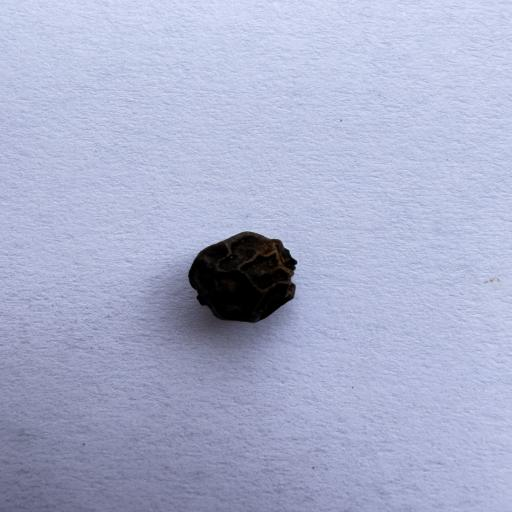Black_pepper: (143, 210, 342, 340)
